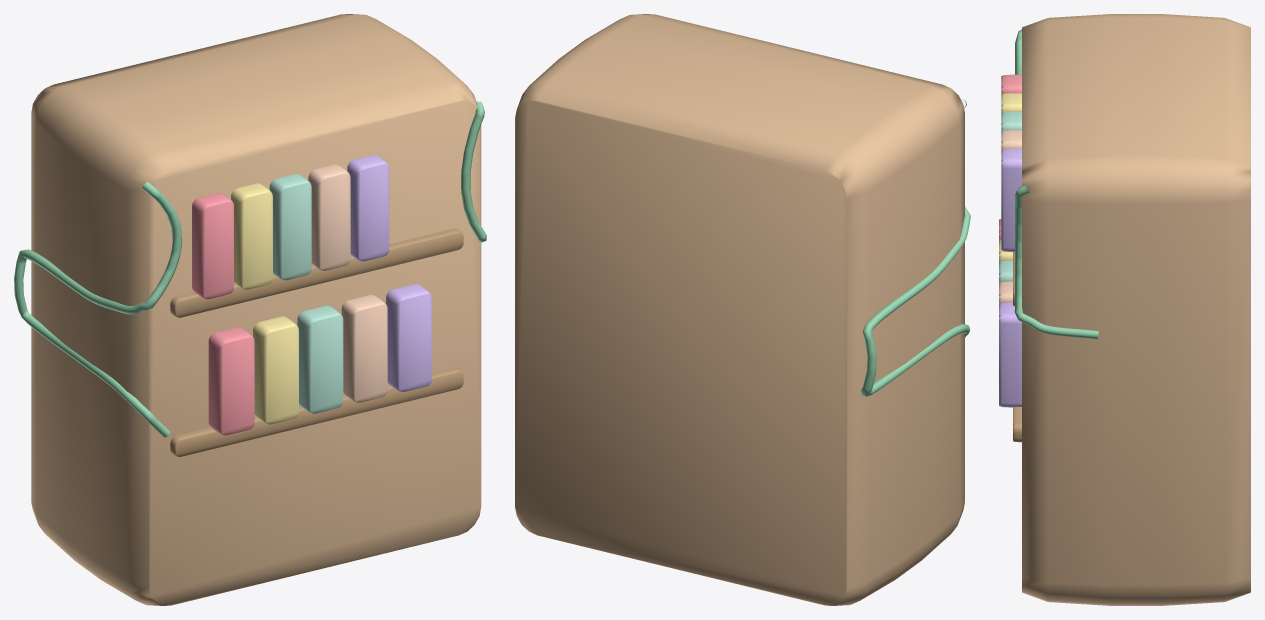
File: decor_6_classic.glb
The picture shows the model from 3 angles, left to right: view 1: azimuth 30°, elevation 25°; view 2: azimuth 150°, elevation 25°; view 3: azimuth 270°, elevation 25°; orthographic projection. The views are drawn at different scales.
Visible parts, largest first — view 1: decor_6_classic; view 2: decor_6_classic; view 3: decor_6_classic.
Boxes of the visible parts, x1=… form: decor_6_classic: x1=14, y1=14, x2=486, y2=605; decor_6_classic: x1=515, y1=14, x2=970, y2=605; decor_6_classic: x1=999, y1=14, x2=1250, y2=605.
Size of the model in its own units: 13.36 by 15.84 by 8.08.
